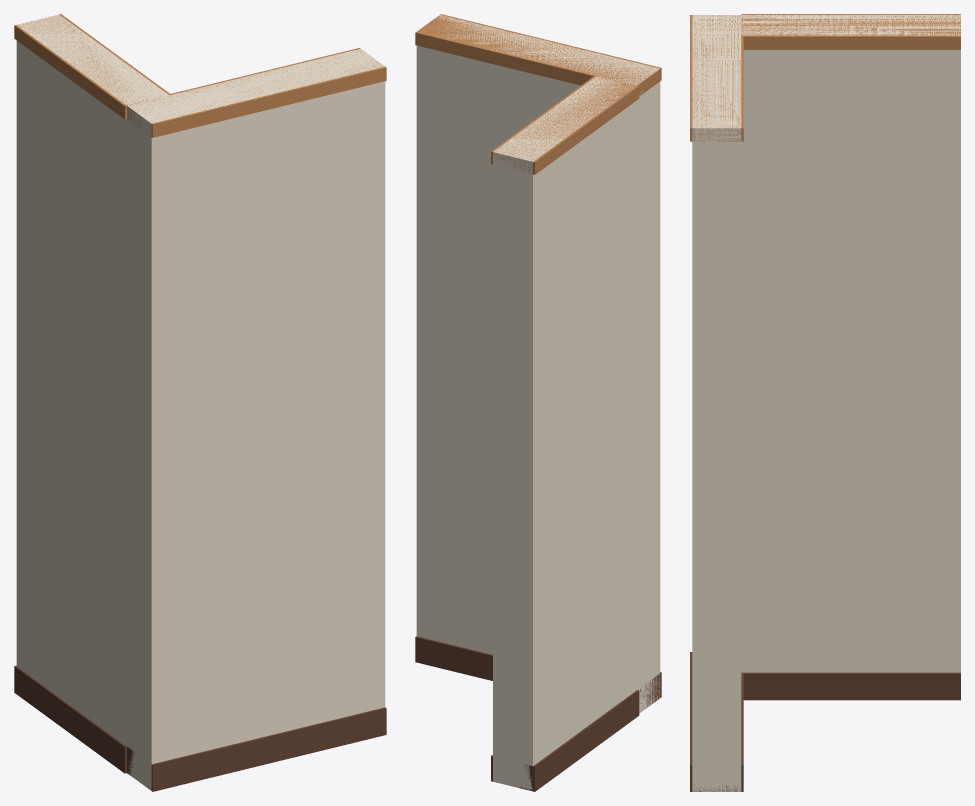
Rendered from wall_corner.glb.
3 renders of one model, left to right at view 1: azimuth 30°, elevation 25°; view 2: azimuth 150°, elevation 25°; view 3: azimuth 270°, elevation 25°, orthographic. The views are drawn at different scales.
Visible parts, largest first — view 1: wall_corner; view 2: wall_corner; view 3: wall_corner.
Boxes of the visible parts, x1,y1,x2,y2 form: wall_corner: [14, 14, 386, 791]; wall_corner: [415, 14, 661, 791]; wall_corner: [690, 14, 960, 791].
Bounding box in the file's own units: 1.11 × 3 × 1.11.
